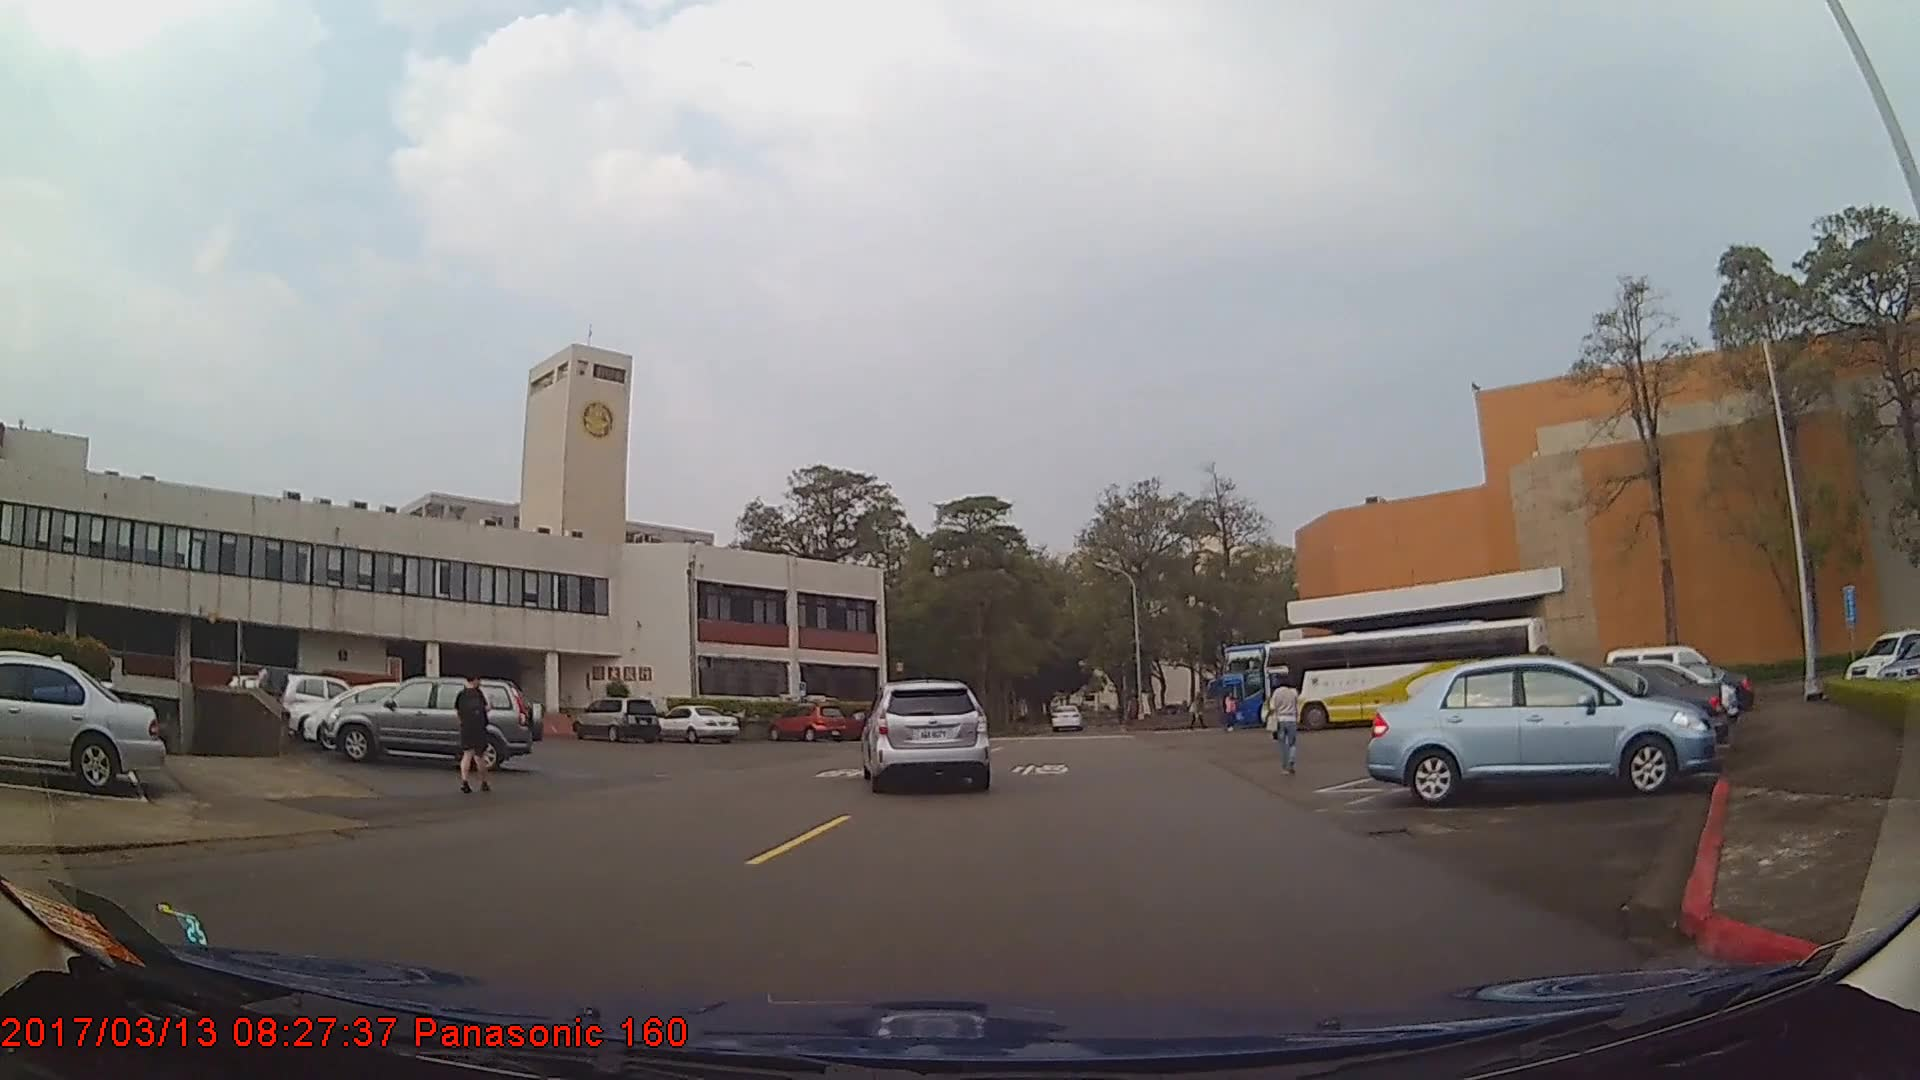pedestrian: (454, 672, 497, 792), (1261, 665, 1303, 760)
vehicle: (1364, 652, 1717, 798), (1262, 616, 1548, 734), (1429, 661, 1725, 764), (0, 652, 166, 794), (1217, 634, 1454, 730), (327, 677, 545, 769), (864, 677, 990, 795), (301, 681, 467, 750), (282, 672, 378, 727), (570, 696, 661, 743), (766, 703, 849, 744), (655, 704, 741, 744), (1050, 702, 1081, 731)
